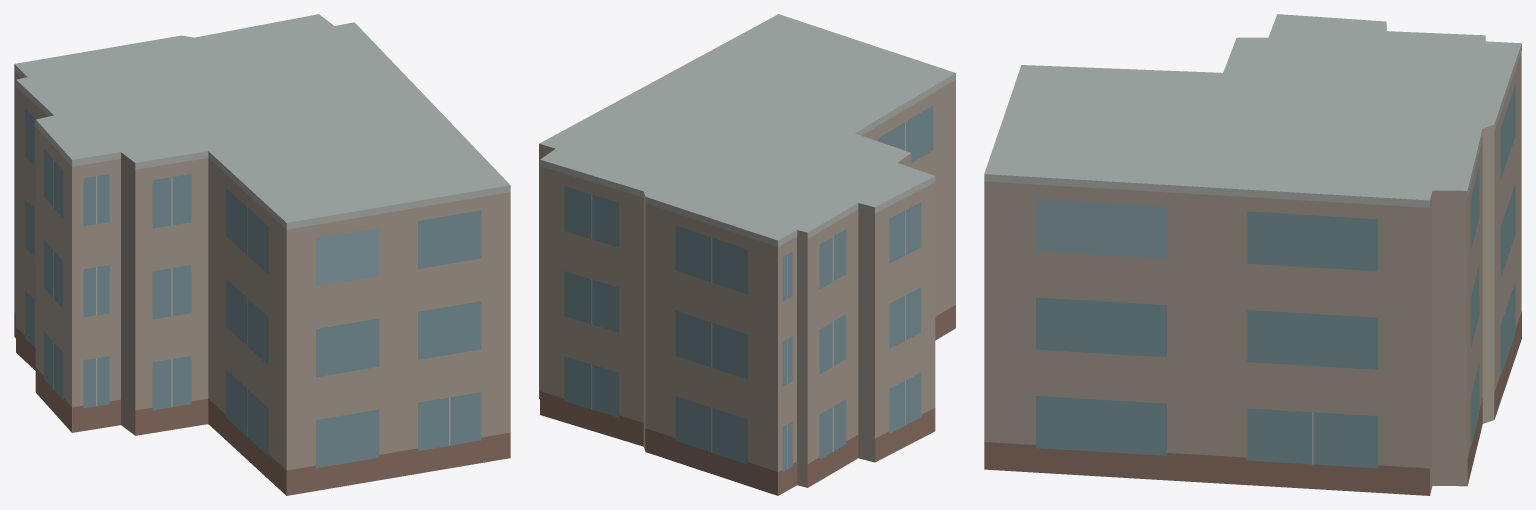
Rendered from survey-upis-32532494.glb.
3 views of the same model, side by side, from view 1: azimuth 30°, elevation 25°; view 2: azimuth 150°, elevation 25°; view 3: azimuth 270°, elevation 25° (orthographic). The views are drawn at different scales.
Parts seen in each view (by area): view 1: survey-upis-32532494.tmp; view 2: survey-upis-32532494.tmp; view 3: survey-upis-32532494.tmp.
Boxes of the visible parts, <box> form: survey-upis-32532494.tmp: <box>14,14,510,495</box>; survey-upis-32532494.tmp: <box>539,14,955,495</box>; survey-upis-32532494.tmp: <box>984,14,1521,495</box>.
Bounding box in the file's own units: 13.28 × 9.8 × 16.18.
